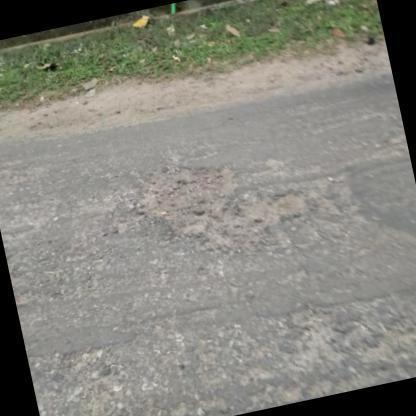pothole: (140, 158, 240, 242)
